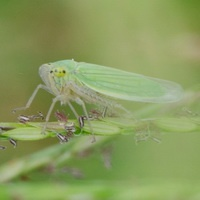insect: (15, 60, 183, 129)
